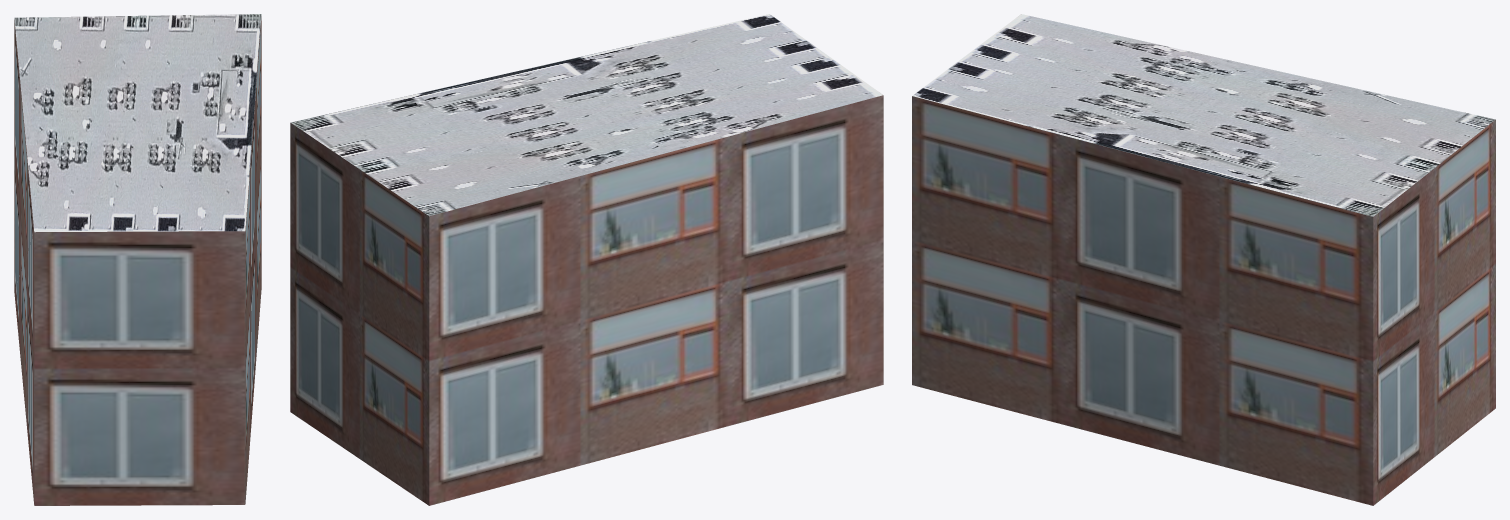
The model's file is ResTex__1886.fbx.
The picture shows the model from 3 angles, left to right: view 1: azimuth 30°, elevation 25°; view 2: azimuth 150°, elevation 25°; view 3: azimuth 270°, elevation 25°; orthographic projection. The views are drawn at different scales.
Parts seen in each view (by area): view 1: CityEngineMaterial_19_m, CityEngineMaterial_15_m; view 2: CityEngineMaterial_19_m, CityEngineMaterial_15_m; view 3: CityEngineMaterial_19_m, CityEngineMaterial_15_m.
Boxes of the visible parts, box(x1,y1,x2,y2) form: CityEngineMaterial_19_m: box(14, 16, 261, 505); CityEngineMaterial_15_m: box(14, 14, 261, 232); CityEngineMaterial_19_m: box(290, 95, 883, 505); CityEngineMaterial_15_m: box(290, 14, 882, 216); CityEngineMaterial_19_m: box(912, 96, 1495, 505); CityEngineMaterial_15_m: box(912, 14, 1495, 216).
Bounding box in the file's own units: 9.04 × 6 × 10.98.
Materials: 2 (2 with a texture image).
